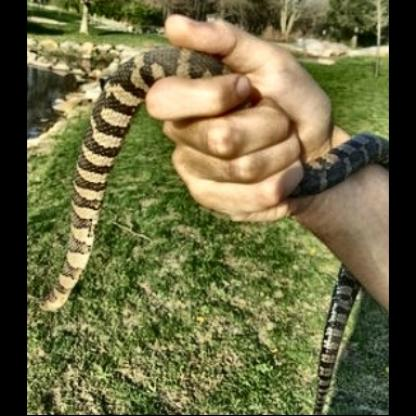Snake: (37, 17, 394, 408)
